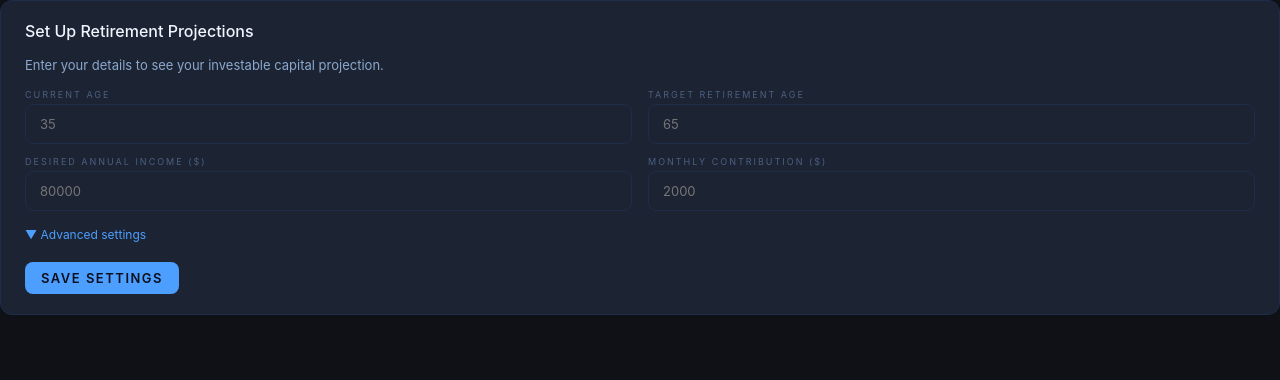
ForecastingSetup › shows validation error when ages are missing and save is clicked
The image size is (1280, 380).
Click the button "Save Settings" at (102, 278), box [25,262,179,294]
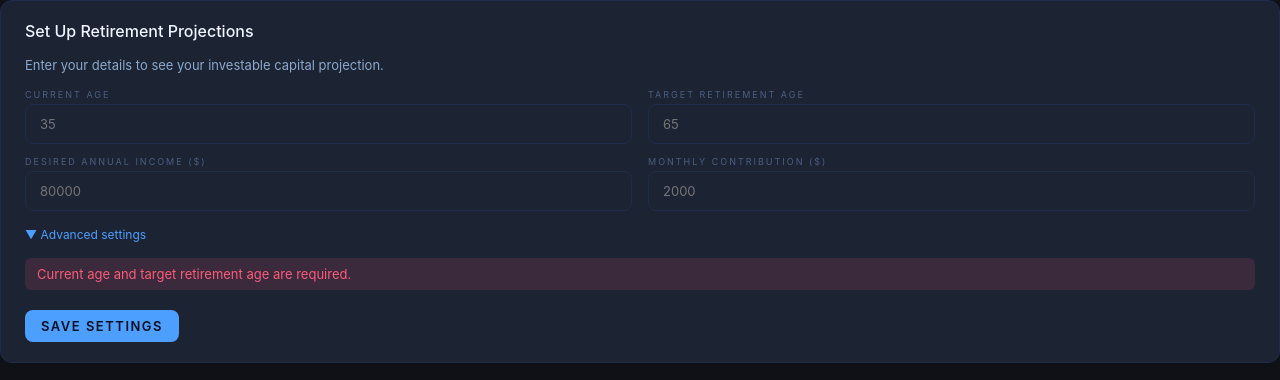
Expected: the text "Current age and target retirement age are required." is shown, [25,258,1255,290]
